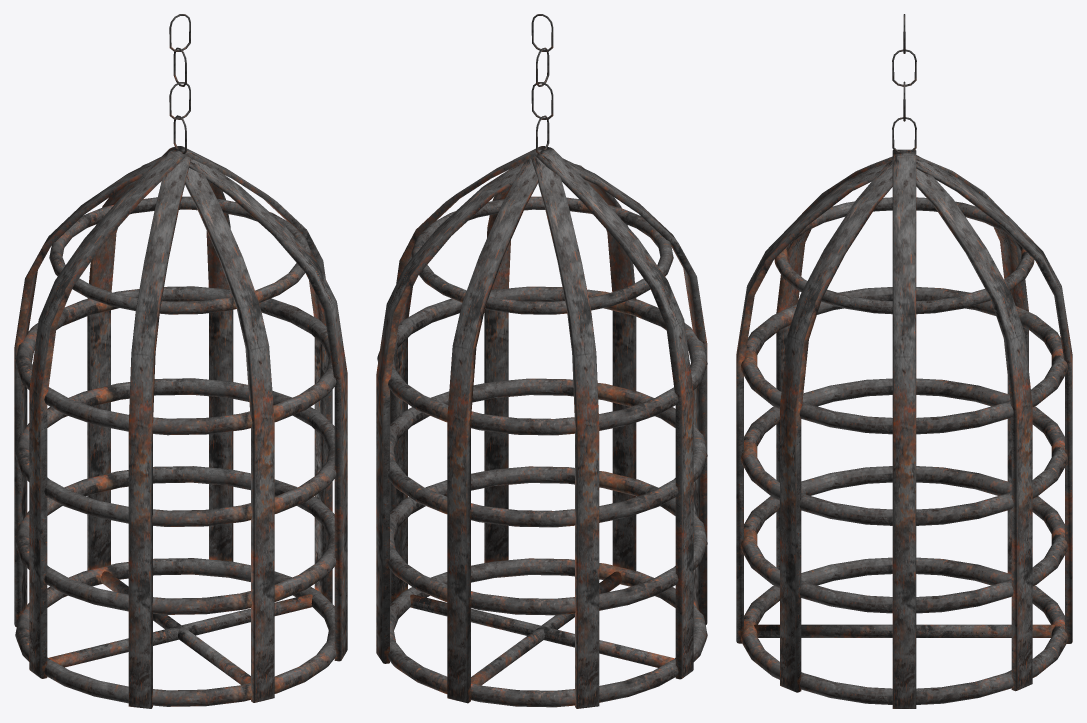
The model's file is NickTx.fbx.
3 views of the same model, side by side, from view 1: azimuth 30°, elevation 25°; view 2: azimuth 150°, elevation 25°; view 3: azimuth 270°, elevation 25° (orthographic).
Visible parts, largest first — view 1: nick; view 2: nick; view 3: nick.
Part boxes in pixels (x1,y1,x2,y2): nick: (14,14,347,708); nick: (376,14,707,708); nick: (736,14,1072,708).
Bounding box in the file's own units: 1016 × 2077 × 1016.
1 material, 1 textured.
